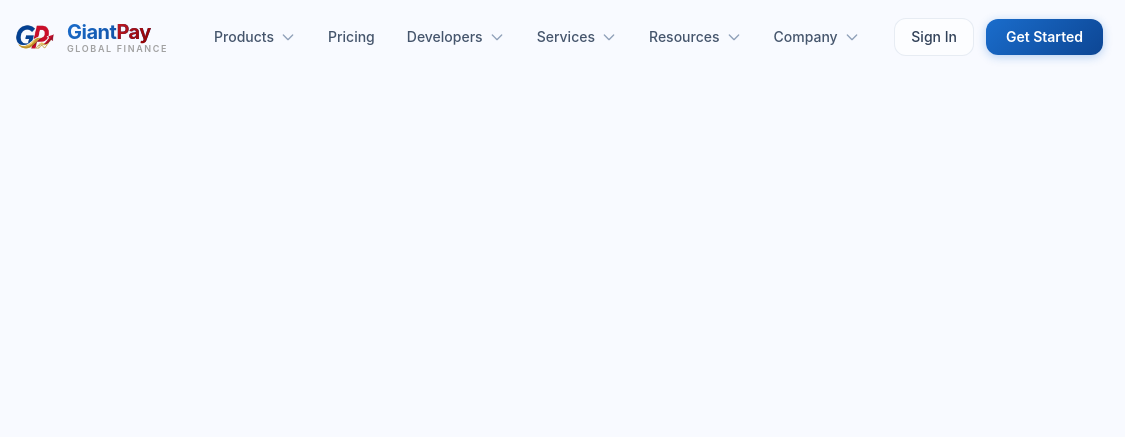
Test case: PublicNavbar › 4. supports desktop dropdown keyboard and mouse access
Open via click
Click the button "Products": (255, 37) top-left (200, 19), bottom-right (310, 55)
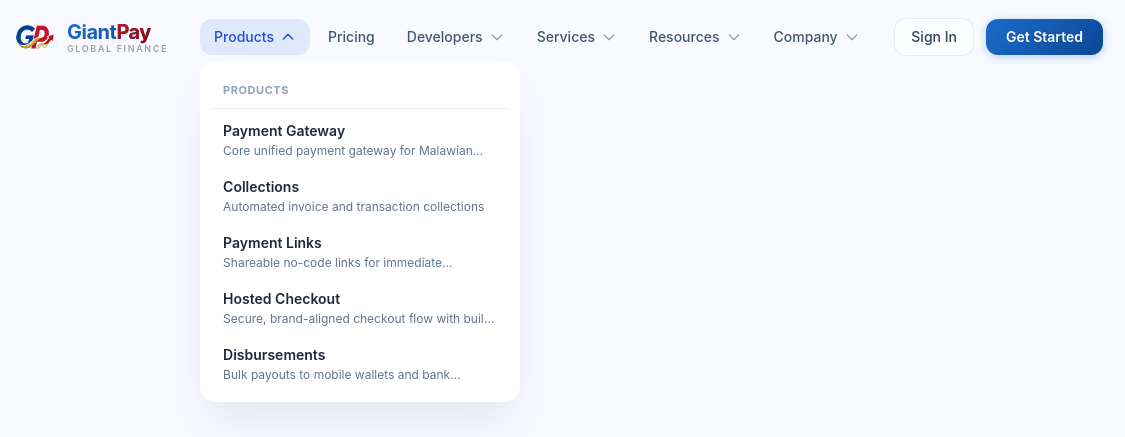
Result: the button "Products" is expanded at top-left (200, 19), bottom-right (310, 55)
Result: the menu is shown at top-left (200, 61), bottom-right (520, 402)
Result: the menu item that starts with "Payment Gateway" is shown at top-left (223, 122), bottom-right (473, 174)
